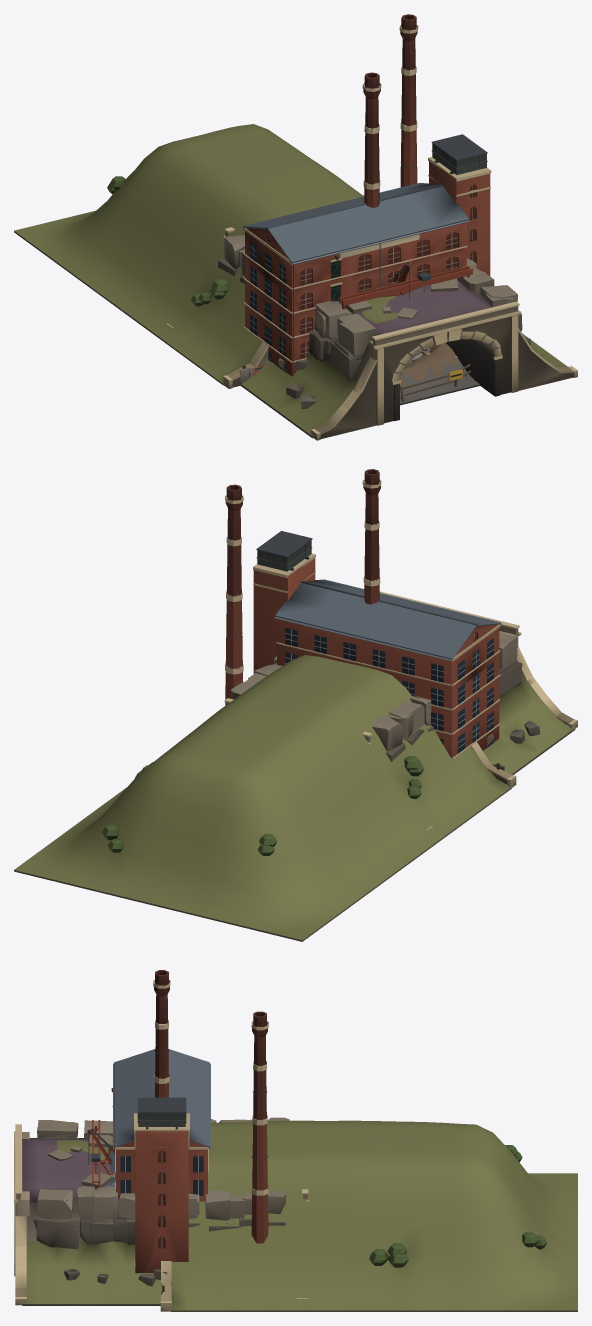
File: works-511d616e.glb
3 views of the same model, one above another, from view 1: azimuth 30°, elevation 25°; view 2: azimuth 150°, elevation 25°; view 3: azimuth 270°, elevation 25° (orthographic). The views are drawn at different scales.
Parts seen in each view (by area): view 1: tunnel_rail-mesh, mill_big-mesh, outcrop_a-mesh, outcrop_b-mesh, mill_site-mesh, subsidence-mesh, chimney-mesh, goods_grand-mesh; view 2: tunnel_rail-mesh, mill_big-mesh, outcrop_b-mesh, outcrop_a-mesh, mill_site-mesh, chimney-mesh; view 3: tunnel_rail-mesh, mill_big-mesh, outcrop_b-mesh, outcrop_a-mesh, mill_site-mesh, chimney-mesh, goods_grand-mesh.
Part boxes in pixels (x1,y1,x2,y2): tunnel_rail-mesh: (14, 124, 363, 388); mill_big-mesh: (242, 134, 491, 376); outcrop_a-mesh: (166, 195, 577, 440); outcrop_b-mesh: (234, 250, 573, 436); mill_site-mesh: (399, 14, 479, 405); subsidence-mesh: (400, 342, 475, 401); chimney-mesh: (362, 72, 381, 207); goods_grand-mesh: (339, 266, 472, 360); tunnel_rail-mesh: (14, 655, 516, 941); mill_big-mesh: (253, 531, 501, 759); outcrop_b-mesh: (245, 631, 574, 774); outcrop_a-mesh: (224, 591, 577, 830); mill_site-mesh: (225, 484, 243, 705); chimney-mesh: (362, 469, 381, 604); tunnel_rail-mesh: (160, 1120, 577, 1311); mill_big-mesh: (111, 1049, 210, 1273); outcrop_b-mesh: (15, 1119, 252, 1303); outcrop_a-mesh: (14, 1117, 309, 1305); mill_site-mesh: (251, 1011, 268, 1243); chimney-mesh: (153, 970, 170, 1097); goods_grand-mesh: (91, 1120, 115, 1189).
Bounding box in the file's own units: 1.09 × 1 × 1.9.
